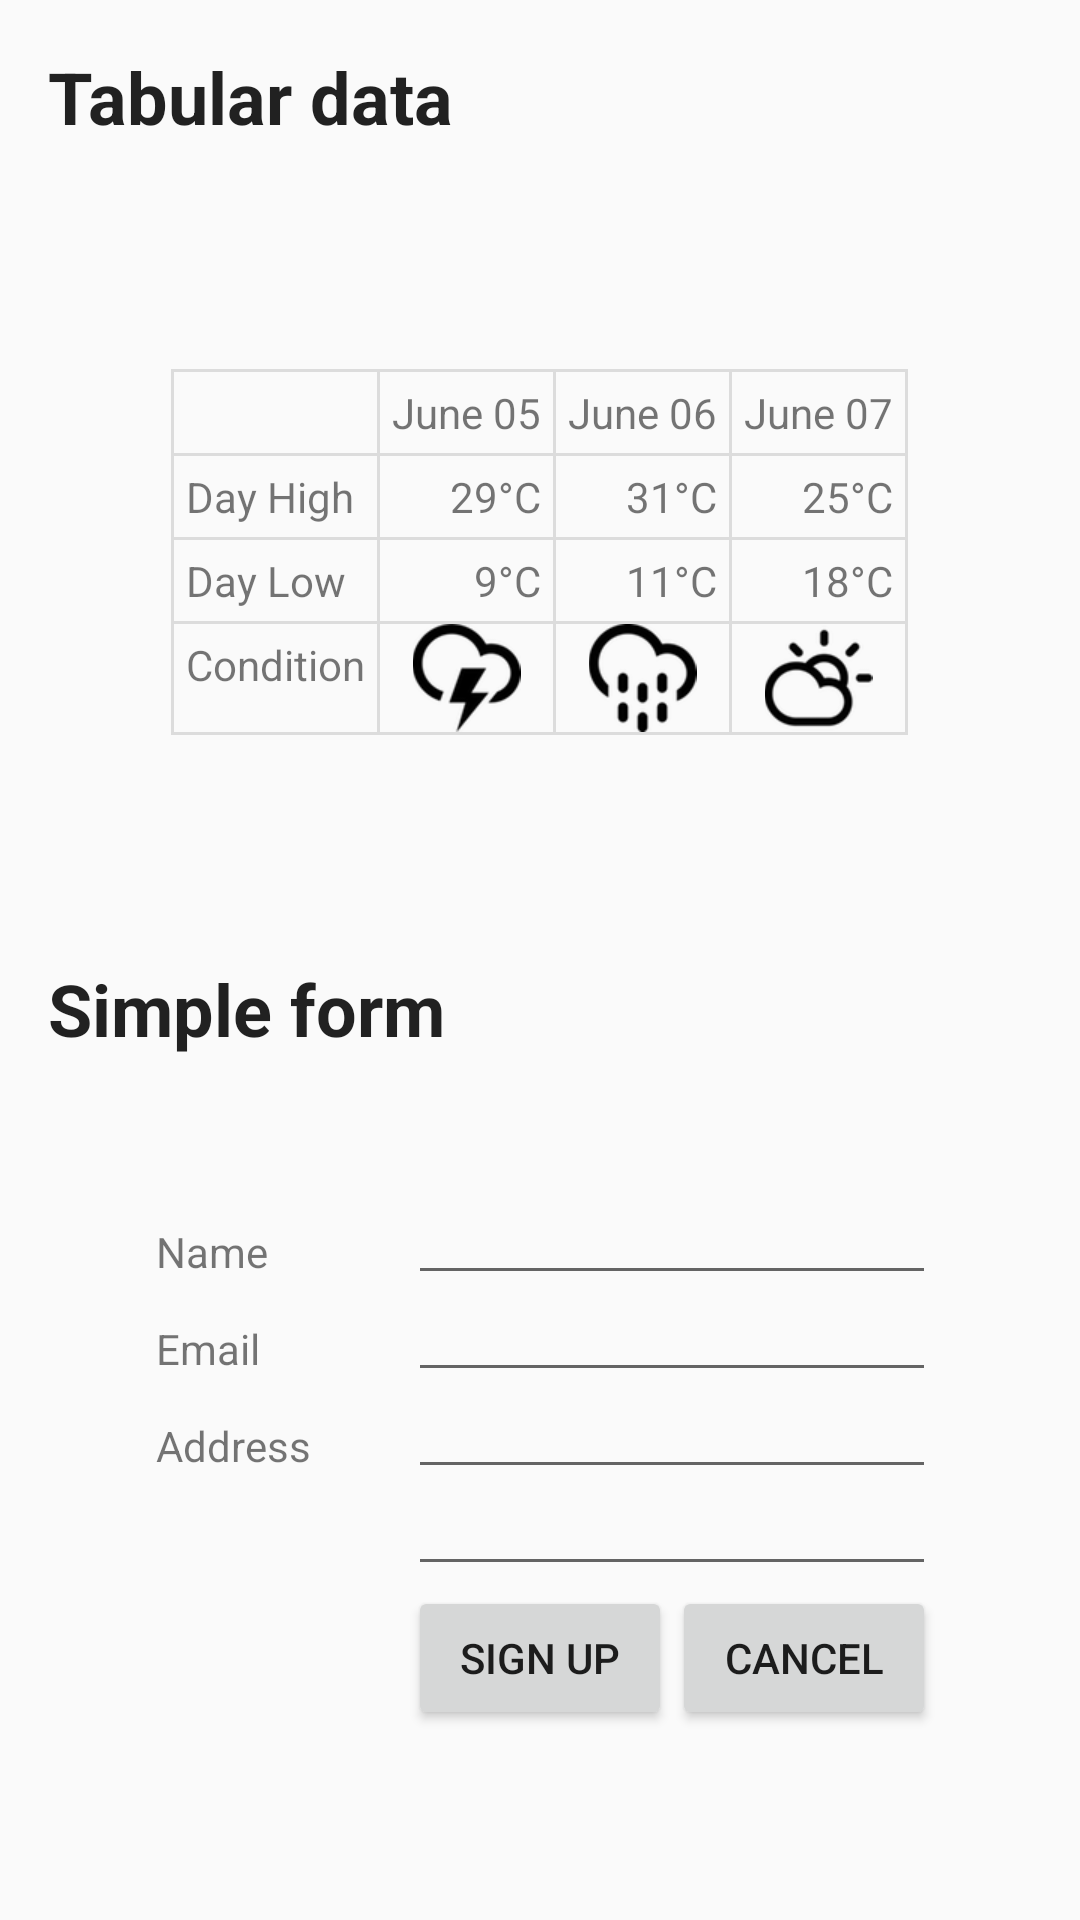

Locate icon controls on the screen. Image size 1080px x 1920px, boxes as (x1, y1, x2, y2).
day few clouds: (765, 629, 873, 727)
rain: (589, 624, 697, 732)
thunderstorm: (413, 624, 521, 732)
